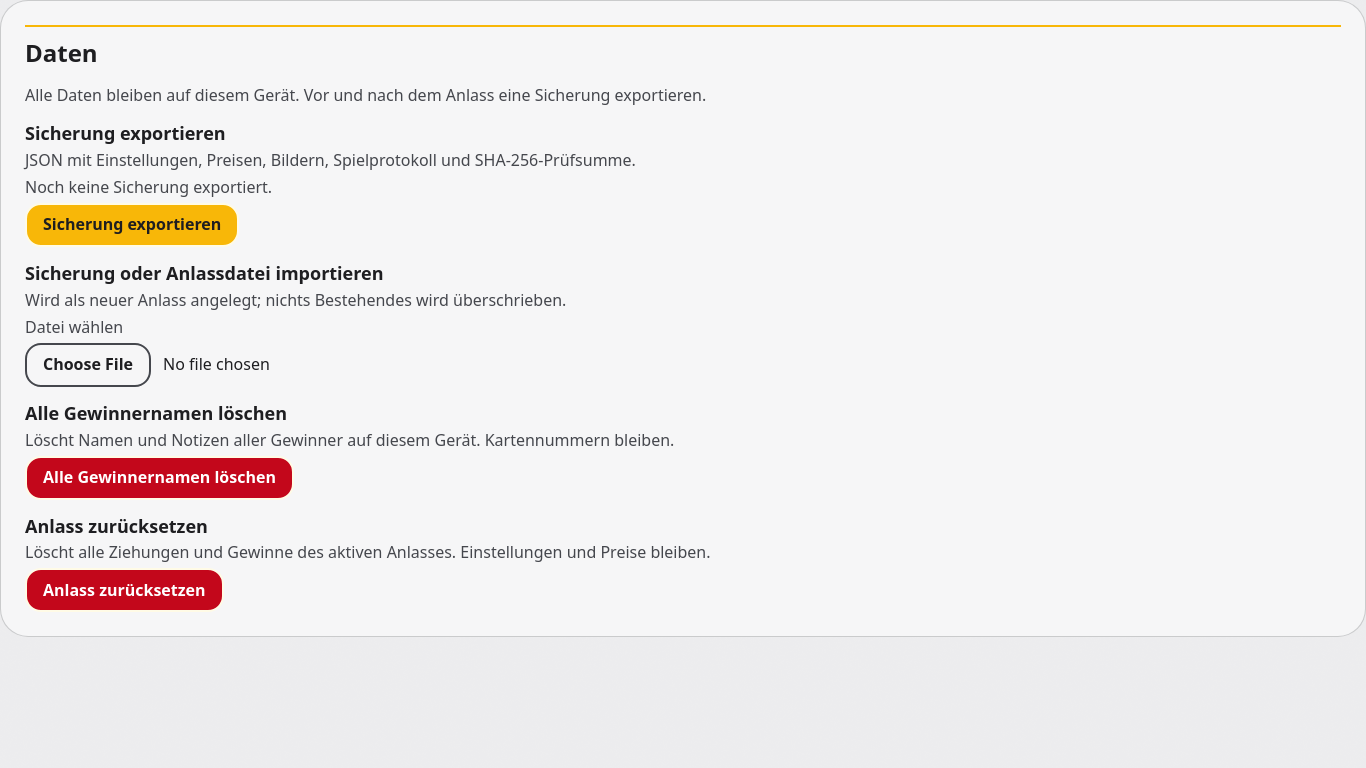
Test: Daten › resets the event only after the confirmation word is typed
Step 1. Click the button "Anlass zurücksetzen" → click(124, 590), box [25,568,224,612]
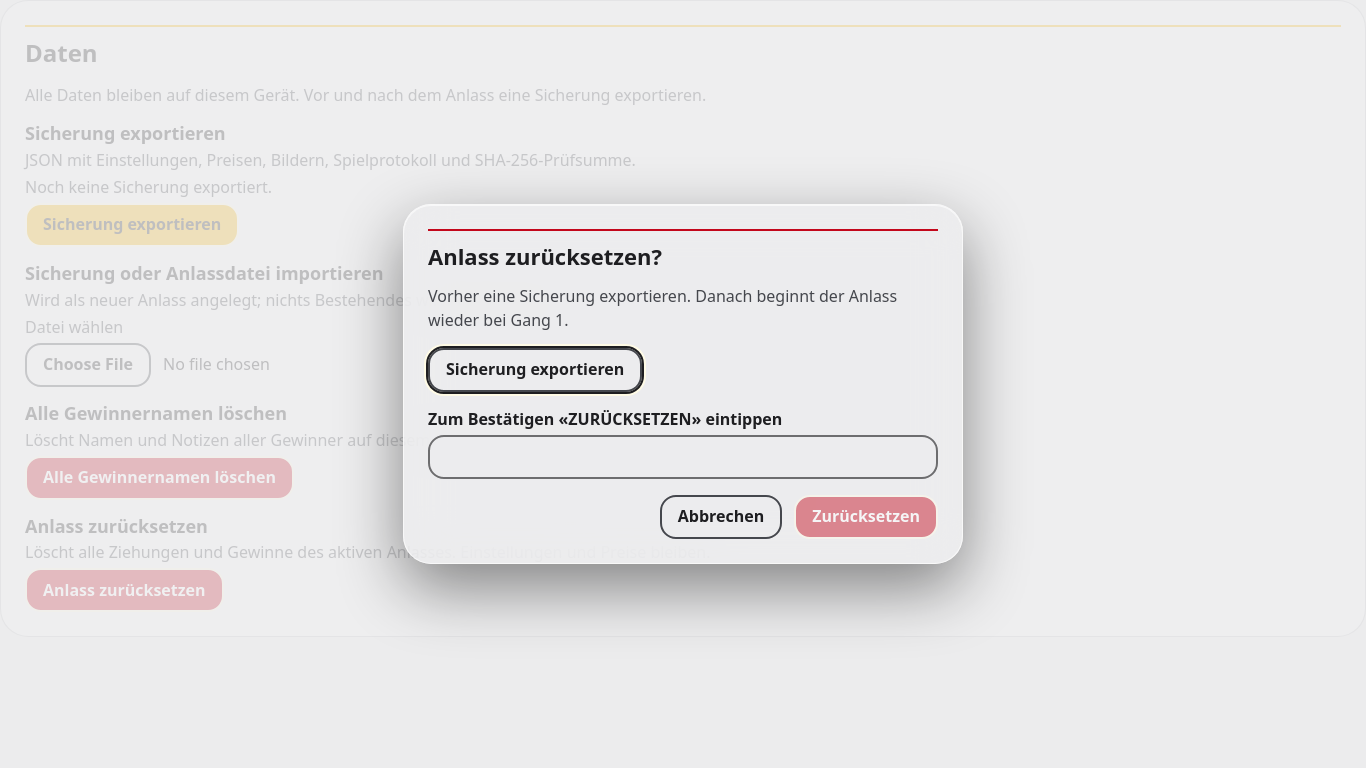
Expected: the button "Zurücksetzen" is disabled, [794,495,938,539]
Step 2. Type "ZURÜCKSETZEN" into the field labelled "Zum Bestätigen «ZURÜCKSETZEN» eintippen" → (683, 457), box [428,435,938,479]
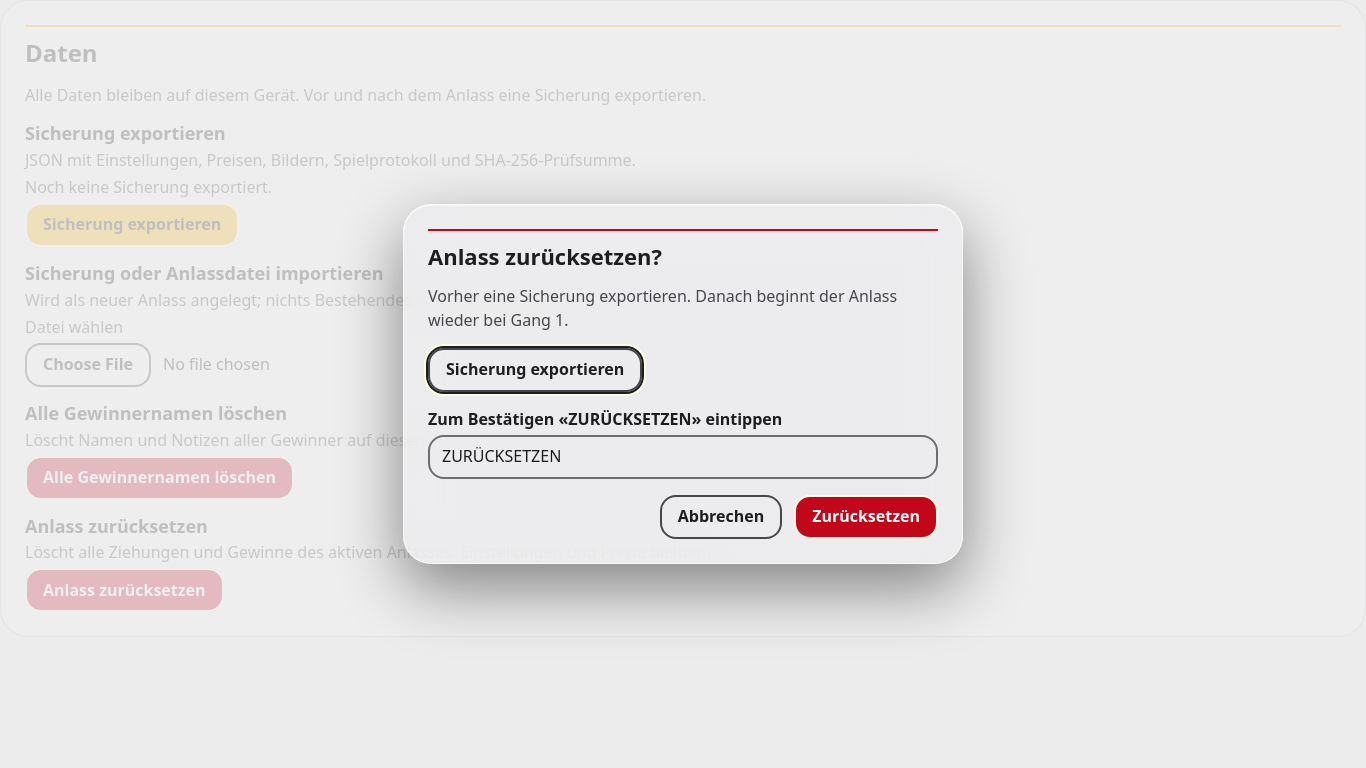
Expected: the button "Zurücksetzen" is enabled
Step 3. Click the button "Zurücksetzen" → click(866, 517), box [794,495,938,539]
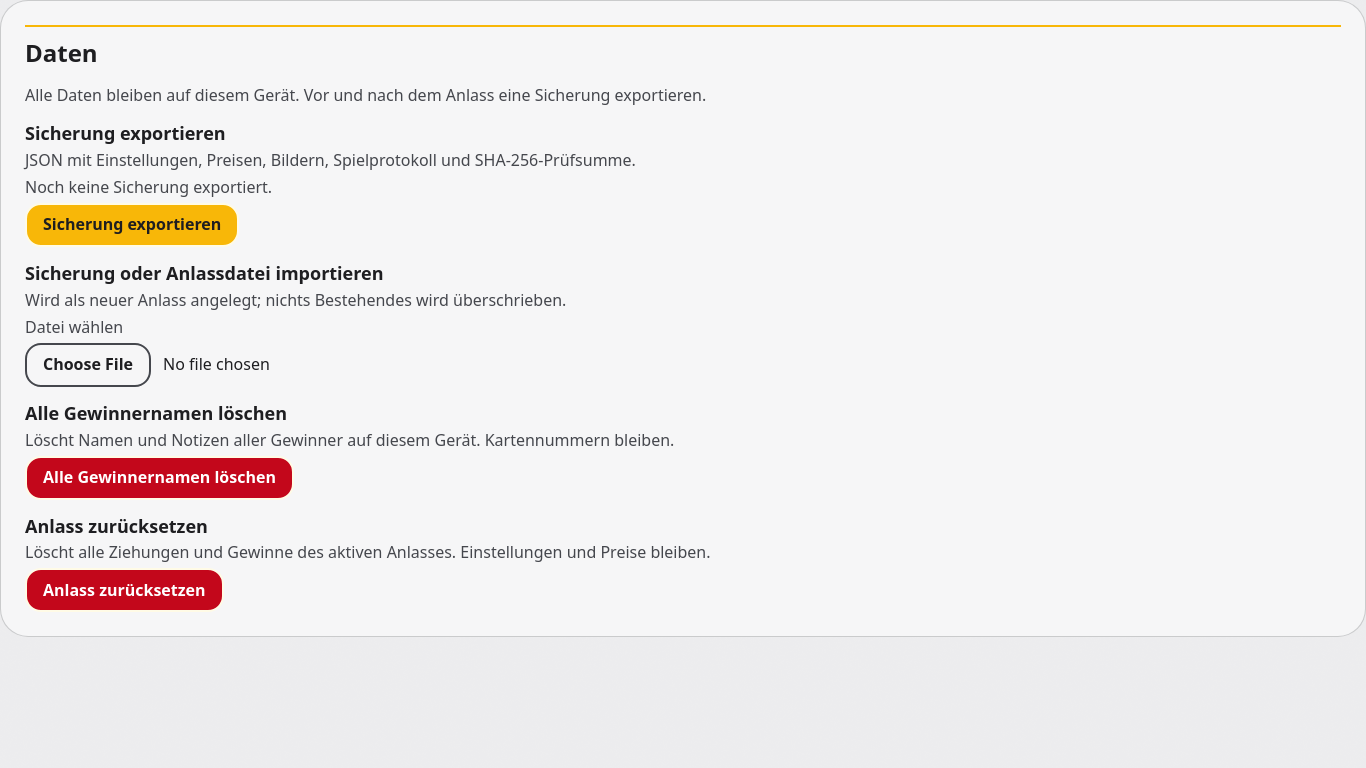
Expected: the dialog is gone
